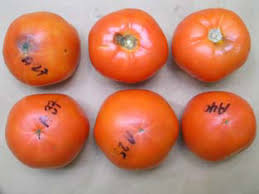tomato: (171, 7, 252, 84), (88, 6, 168, 83), (6, 11, 83, 85)
